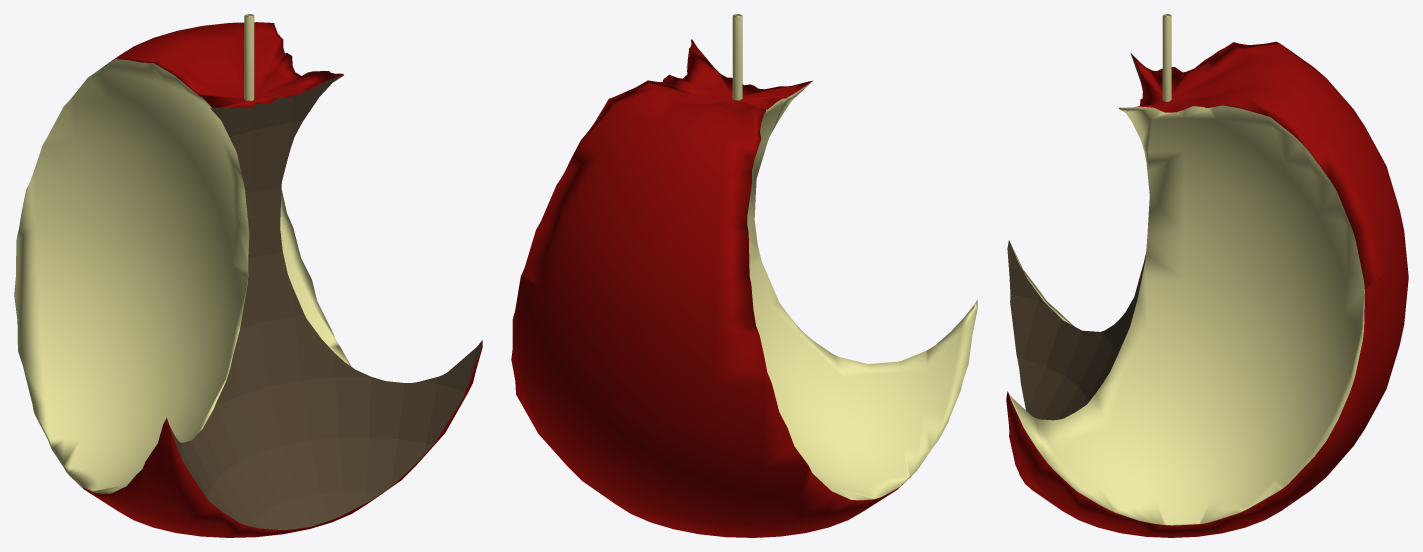
Rendered from apel.fbx.
3 renders of one model, left to right at view 1: azimuth 30°, elevation 25°; view 2: azimuth 150°, elevation 25°; view 3: azimuth 270°, elevation 25°, orthographic.
Parts seen in each view (by area): view 1: Cylinder; view 2: Cylinder; view 3: Cylinder.
Boxes of the visible parts, x1,y1,x2,y2 form: Cylinder: (14,14,482,537); Cylinder: (511,14,977,537); Cylinder: (1006,14,1408,537).
Size of the model in its own units: 120 by 165 by 128.
